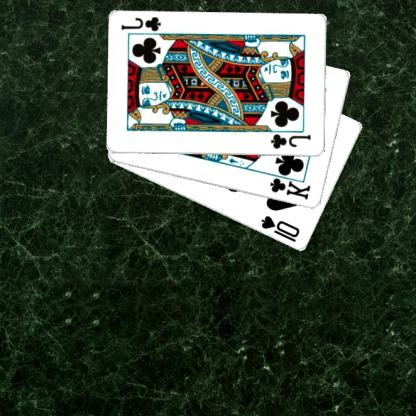10S: (260, 213, 303, 244)
JC: (270, 132, 314, 151), (121, 14, 164, 33)
KC: (267, 170, 314, 201)
